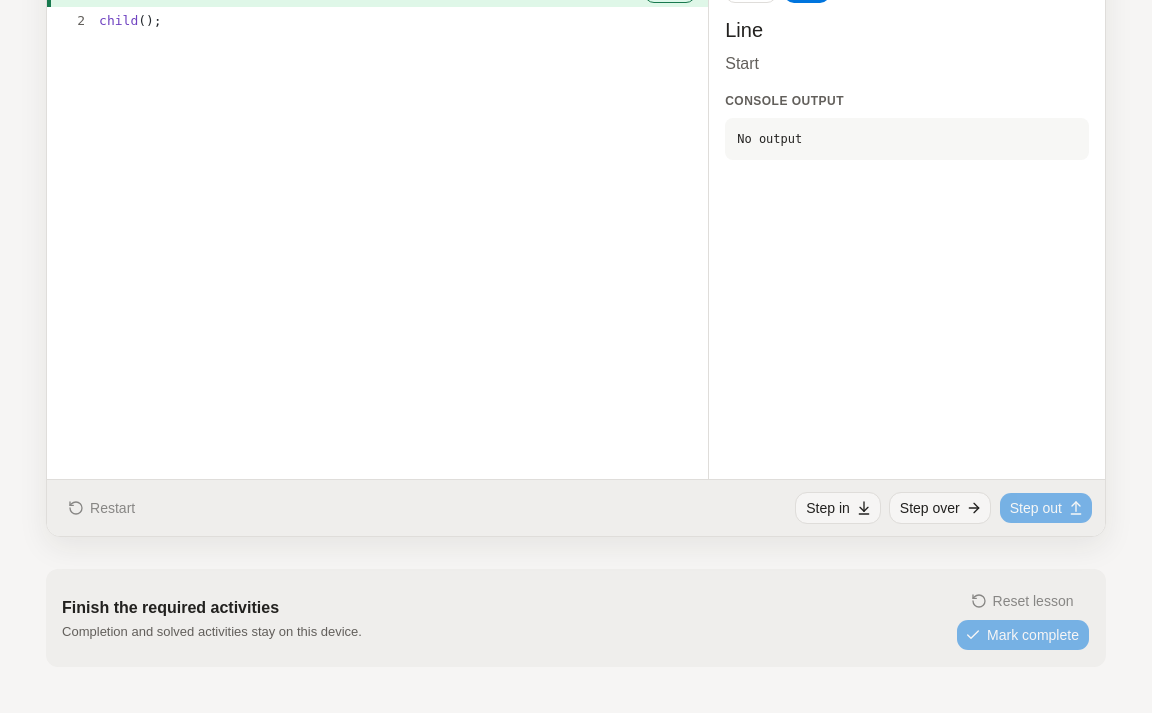
it: code runtime › supports step in, step over, step out, restart, and persisted position
(page scrolled)
Click the button "Step in": (838, 508) [795,492,881,524]
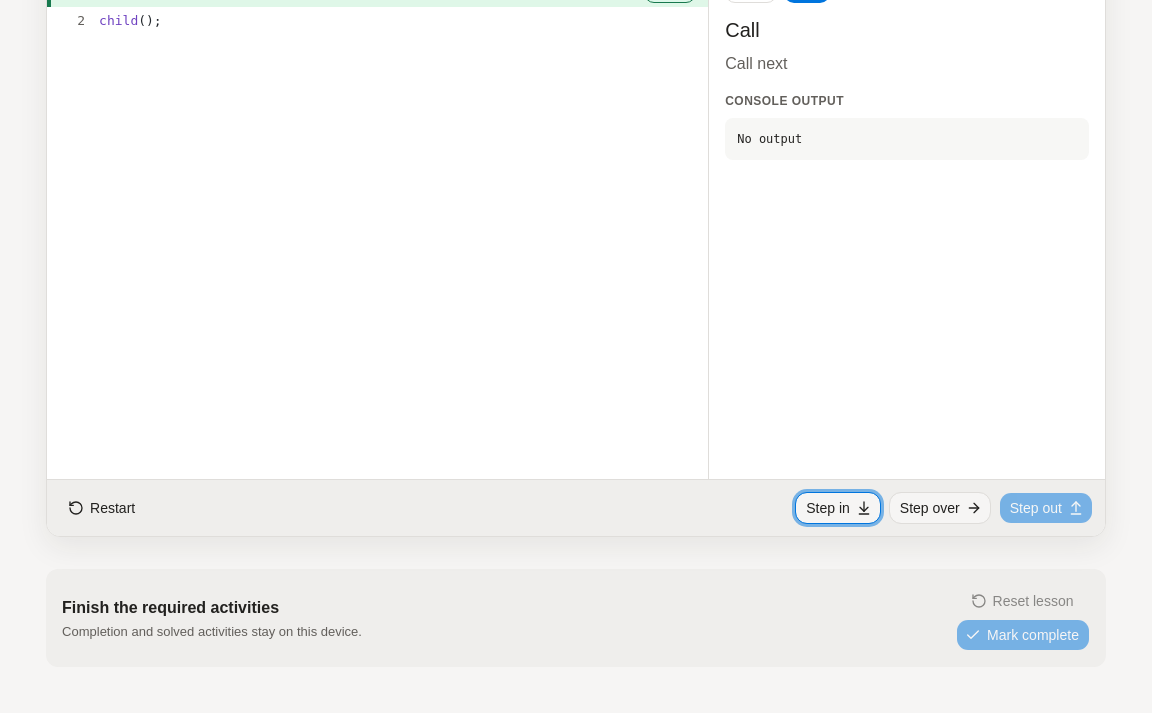
Now the heading "Call" is shown, box [725,19,760,41]
Click the button "Step over": (940, 508) [889,492,991,524]
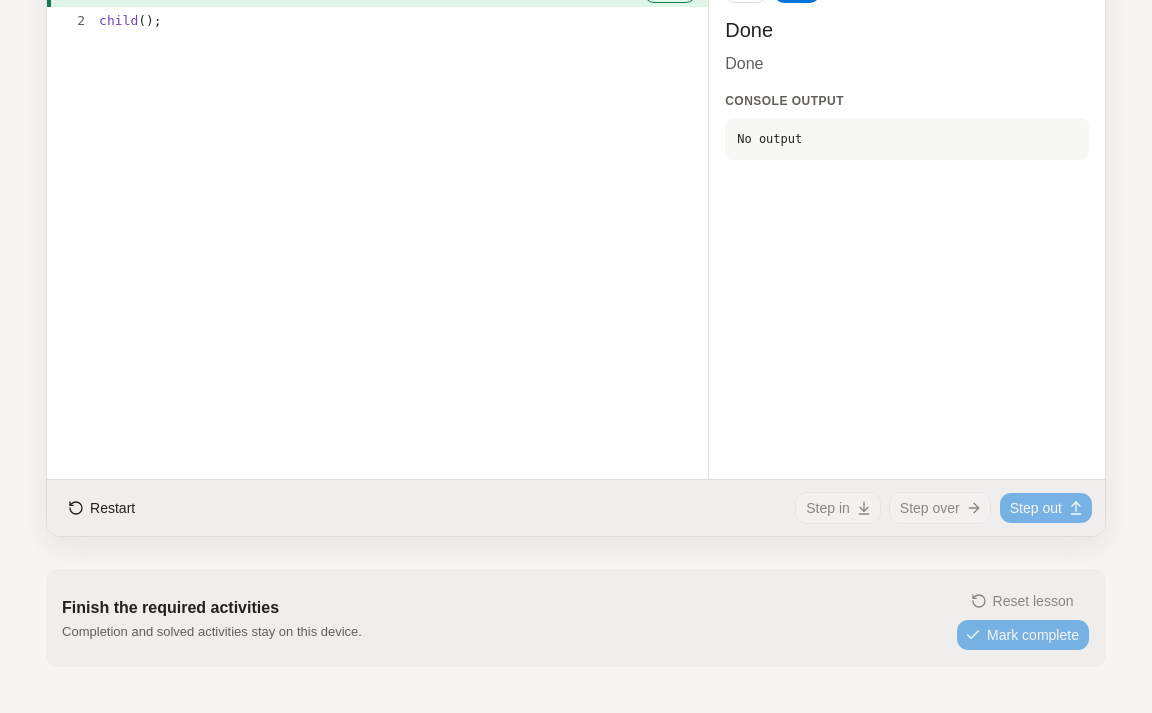
Now the heading "Done" is shown, box [725,19,773,41]
Click the button "Restart": (103, 508) [59,492,146,524]
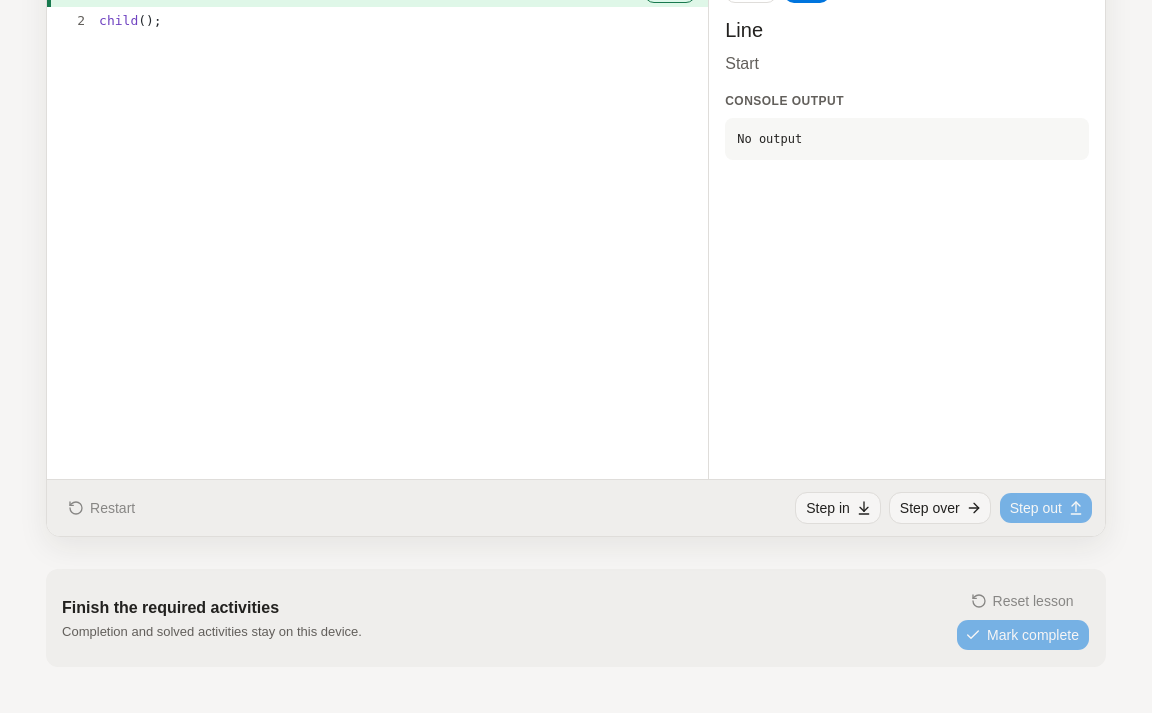
Click the button "Step in": (838, 508) [795,492,881,524]
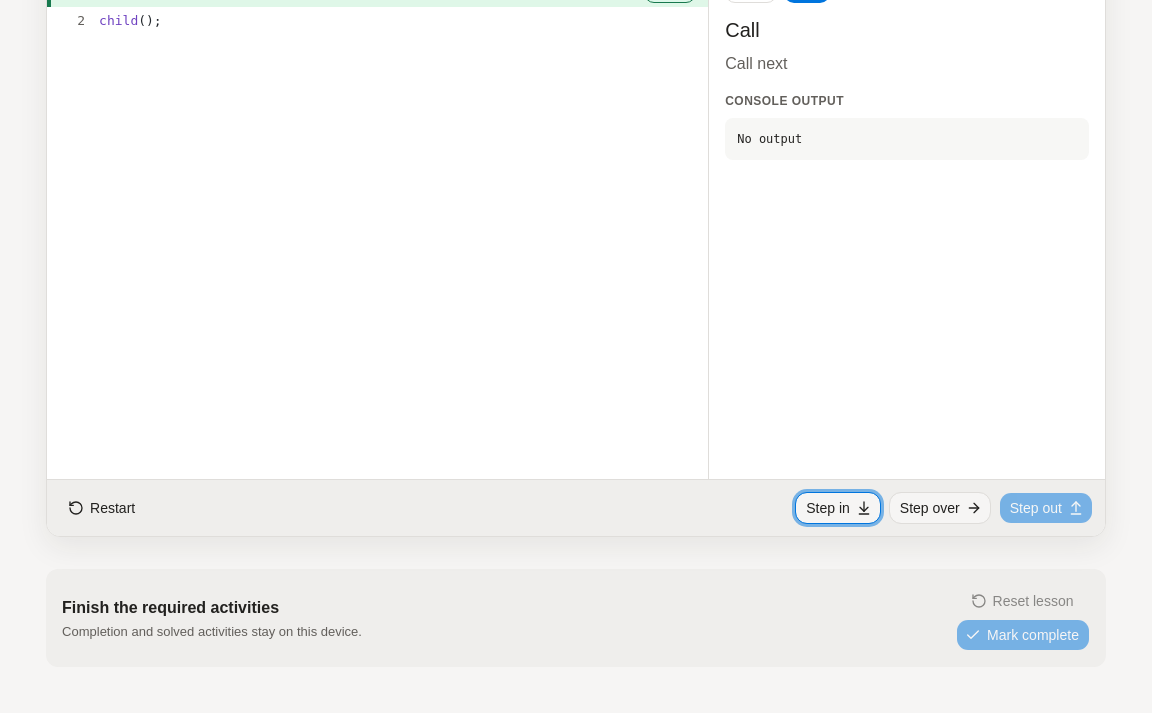
Click the button "Step in": (838, 508) [795,492,881,524]
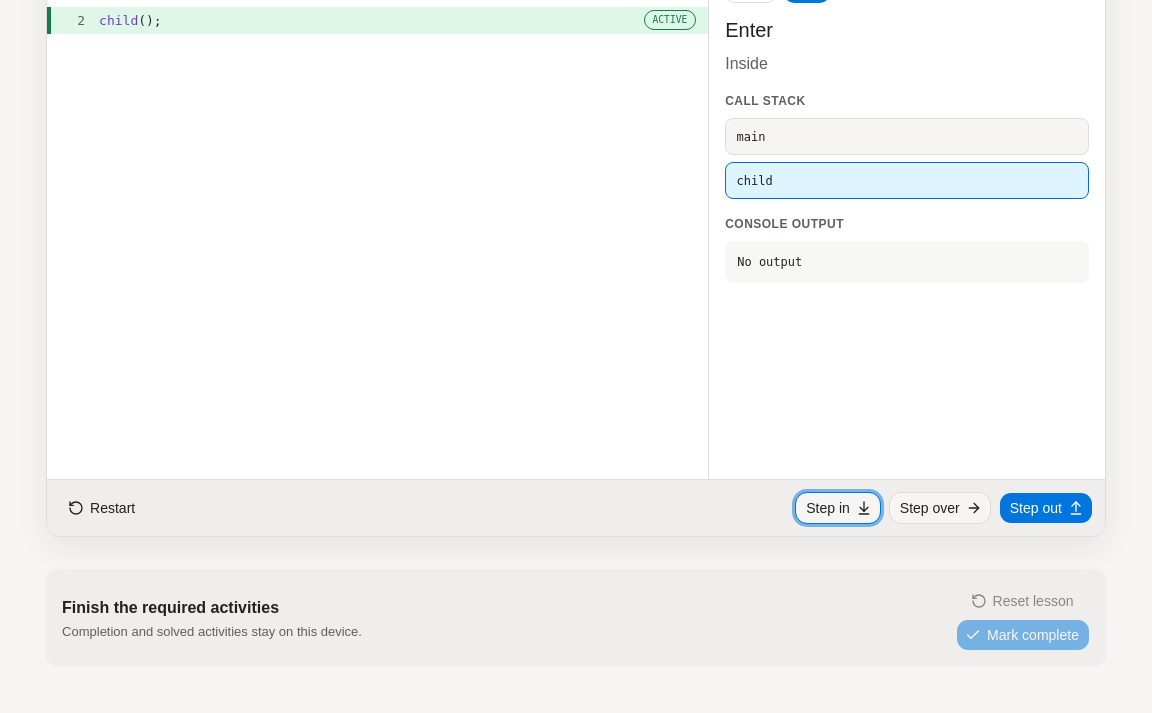
Now the heading "Enter" is shown, box [725,19,773,41]
Click the button "Step out": (1046, 508) [999,492,1093,524]
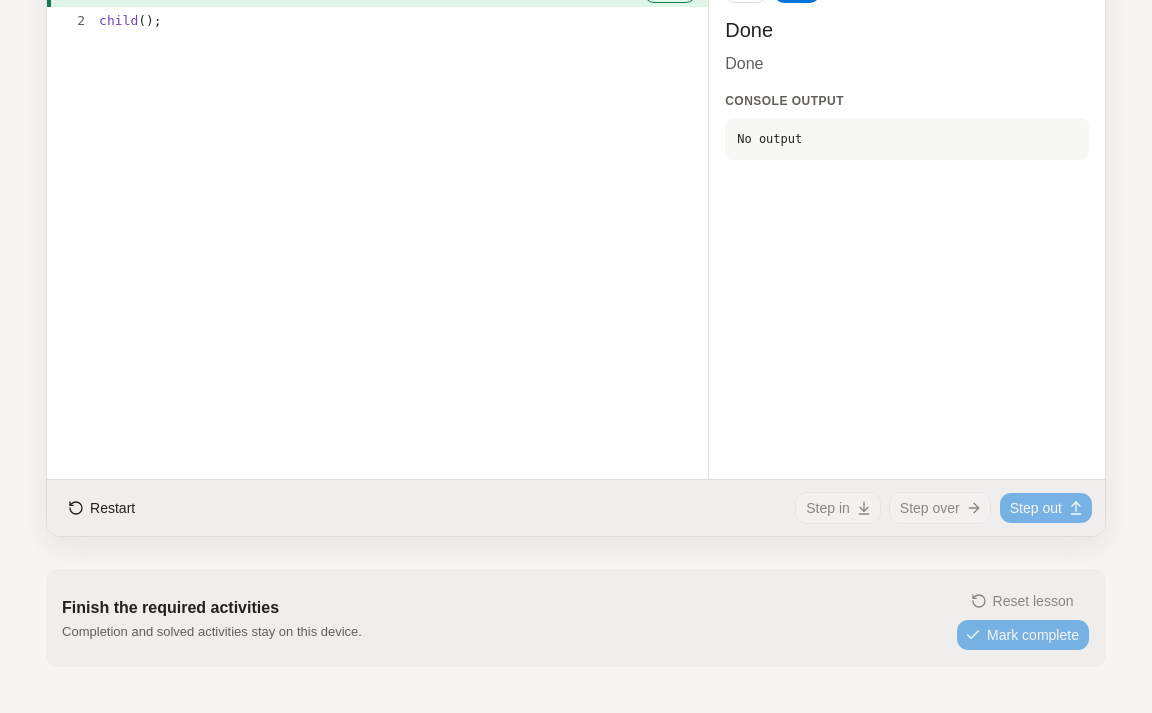
Now the heading "Done" is shown, box [725,19,773,41]
